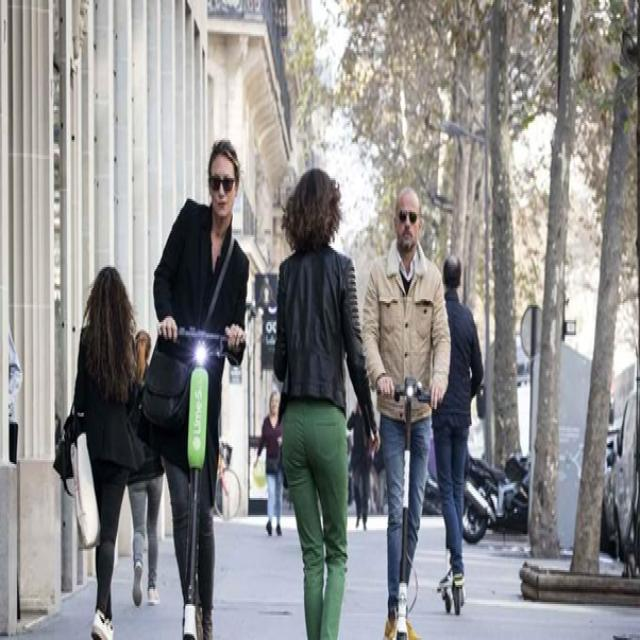non-helmet: (144, 116, 260, 640), (359, 174, 456, 640)
